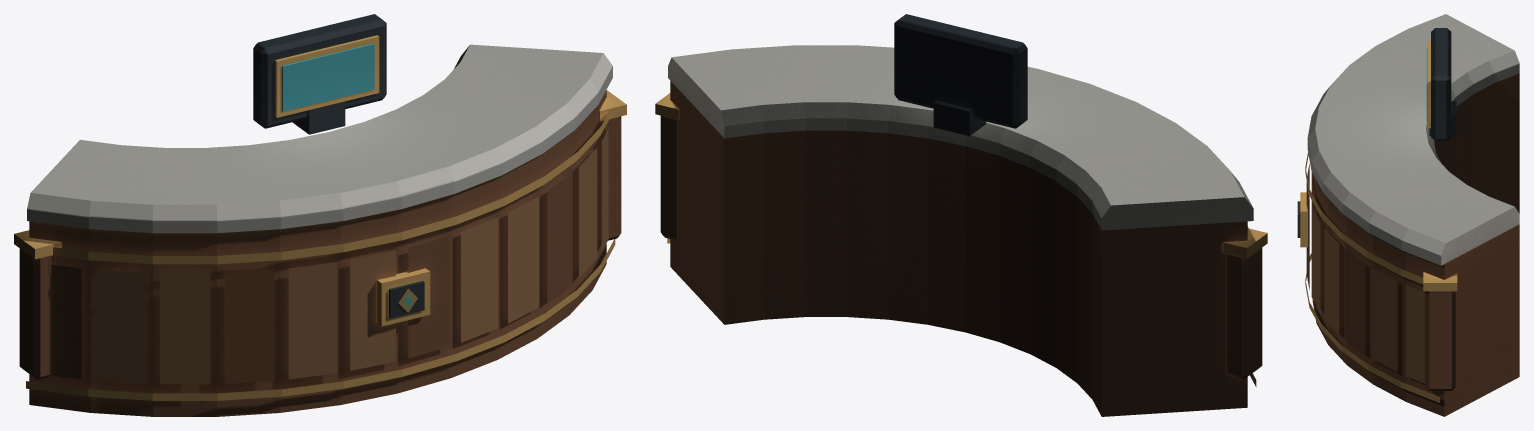
File: 0-20261016-1900-ev001-r01-lobby-receptiondesk_baked.glb
3 views of the same model, side by side, from view 1: azimuth 30°, elevation 25°; view 2: azimuth 150°, elevation 25°; view 3: azimuth 270°, elevation 25° (orthographic). The views are drawn at different scales.
Visible parts, largest first — view 1: SW_Lobby_ReceptionDesk; view 2: SW_Lobby_ReceptionDesk; view 3: SW_Lobby_ReceptionDesk.
Part boxes in pixels (bbox=[...]): SW_Lobby_ReceptionDesk: bbox=[14, 14, 626, 416]; SW_Lobby_ReceptionDesk: bbox=[655, 14, 1267, 416]; SW_Lobby_ReceptionDesk: bbox=[1297, 14, 1519, 416].
Bounding box in the file's own units: 3.29 × 1.62 × 1.31.
Materials: 1 (1 with a texture image).
